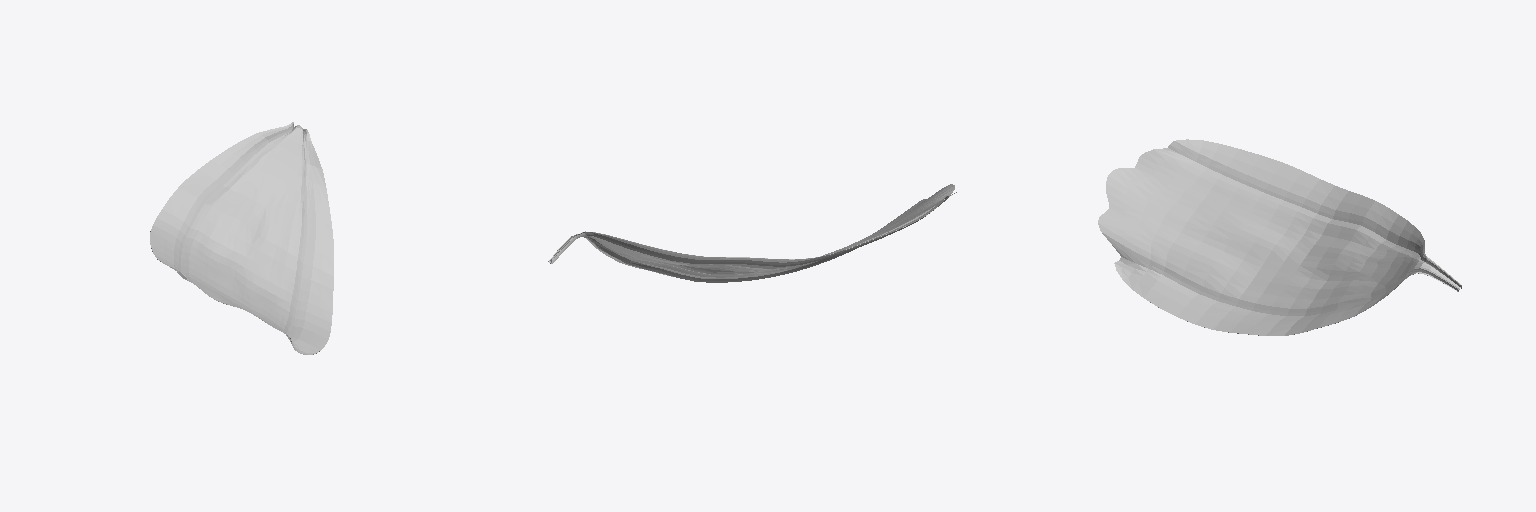
The model's file is petal6.obj.
3 renders of one model, left to right at view 1: azimuth 30°, elevation 25°; view 2: azimuth 150°, elevation 25°; view 3: azimuth 270°, elevation 25°, orthographic.
Visible parts, largest first — view 1: facb_petal_6; view 2: facb_petal_6; view 3: facb_petal_6.
Boxes of the visible parts, x1=… form: facb_petal_6: x1=150, y1=122, x2=333, y2=354; facb_petal_6: x1=548, y1=184, x2=956, y2=282; facb_petal_6: x1=1098, y1=139, x2=1461, y2=335.
Bounding box in the file's own units: 1.54 × 0.6028 × 1.87.